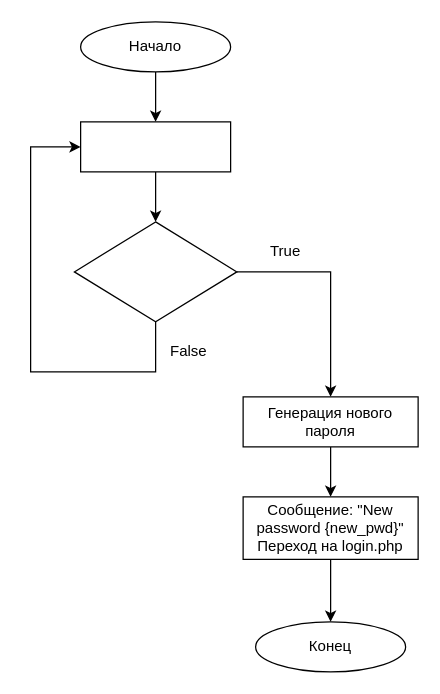
Image size: 440x694. Some labels were removed from this diagram. Each missing label, with the centre of its shape:
Ввод логина: the point at 155,146
Логин есть в базе: the point at 155,271
